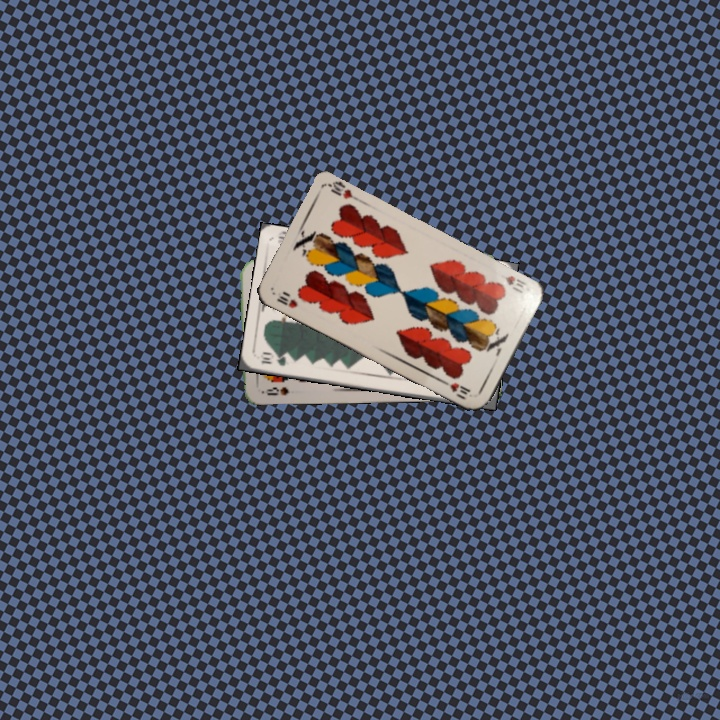G10: (257, 349, 289, 369)
H10: (501, 271, 529, 296), (273, 288, 300, 311)
S8: (257, 383, 291, 398)
